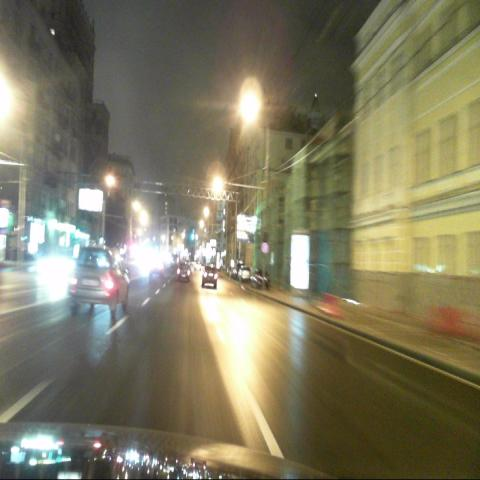3_27: (262, 242, 269, 253)
